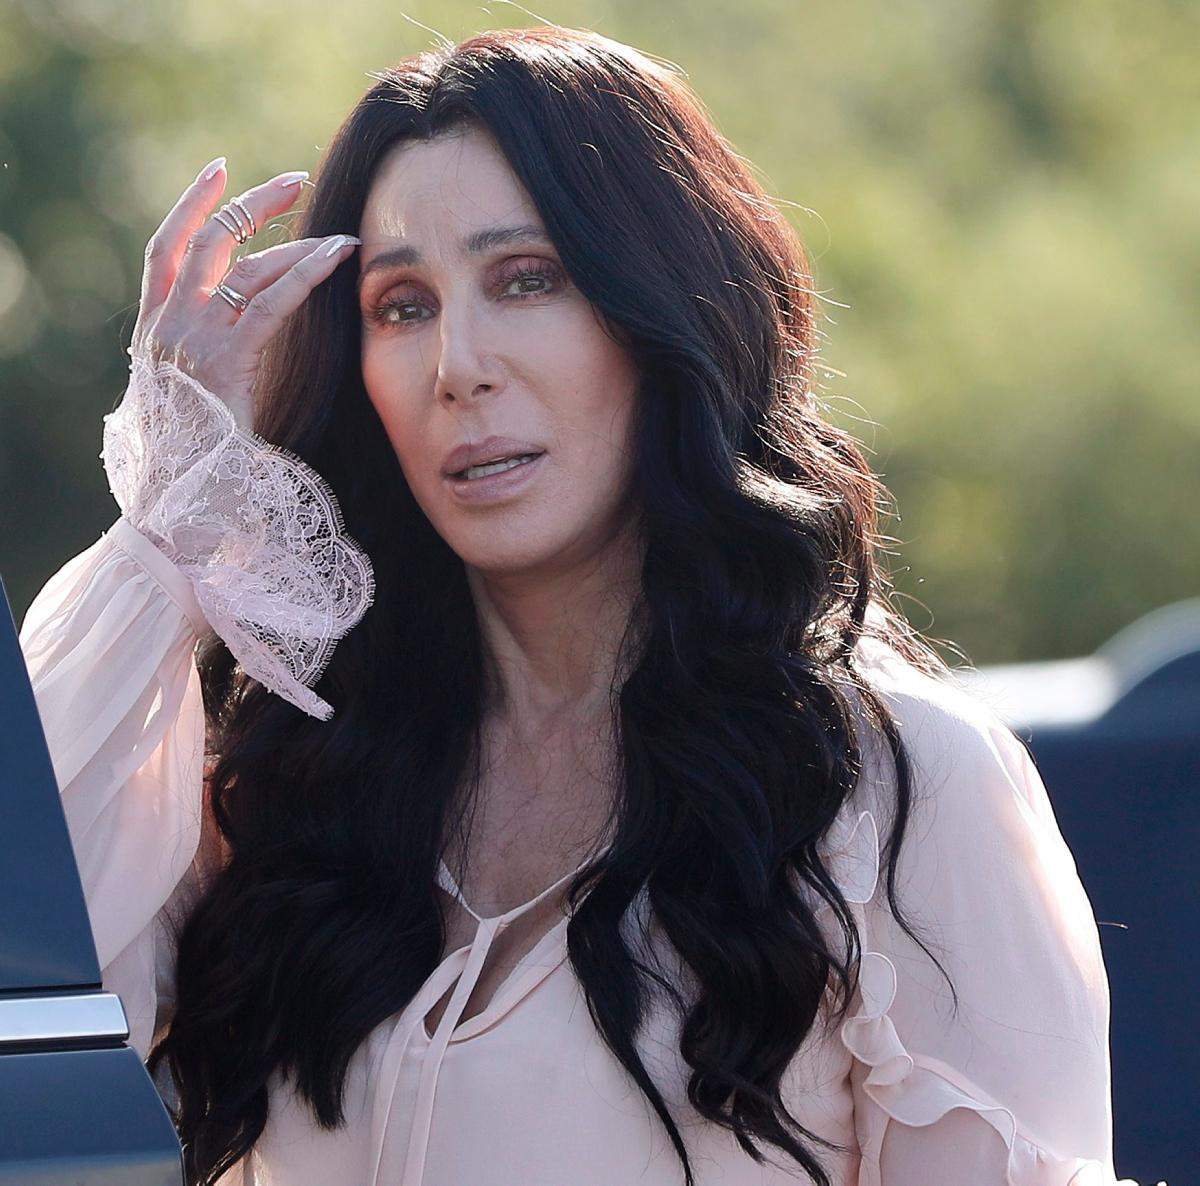sad: (326, 127, 652, 555)
